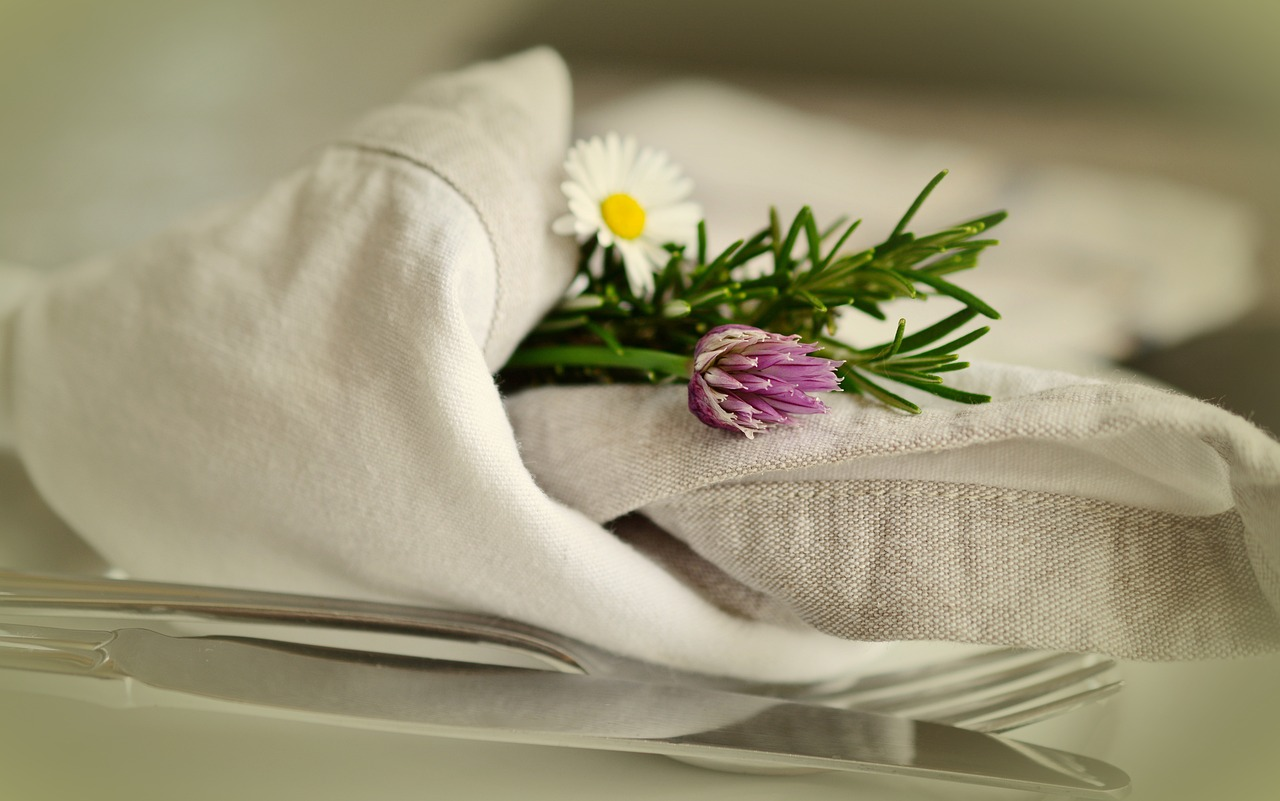knife: (0, 619, 1135, 800)
